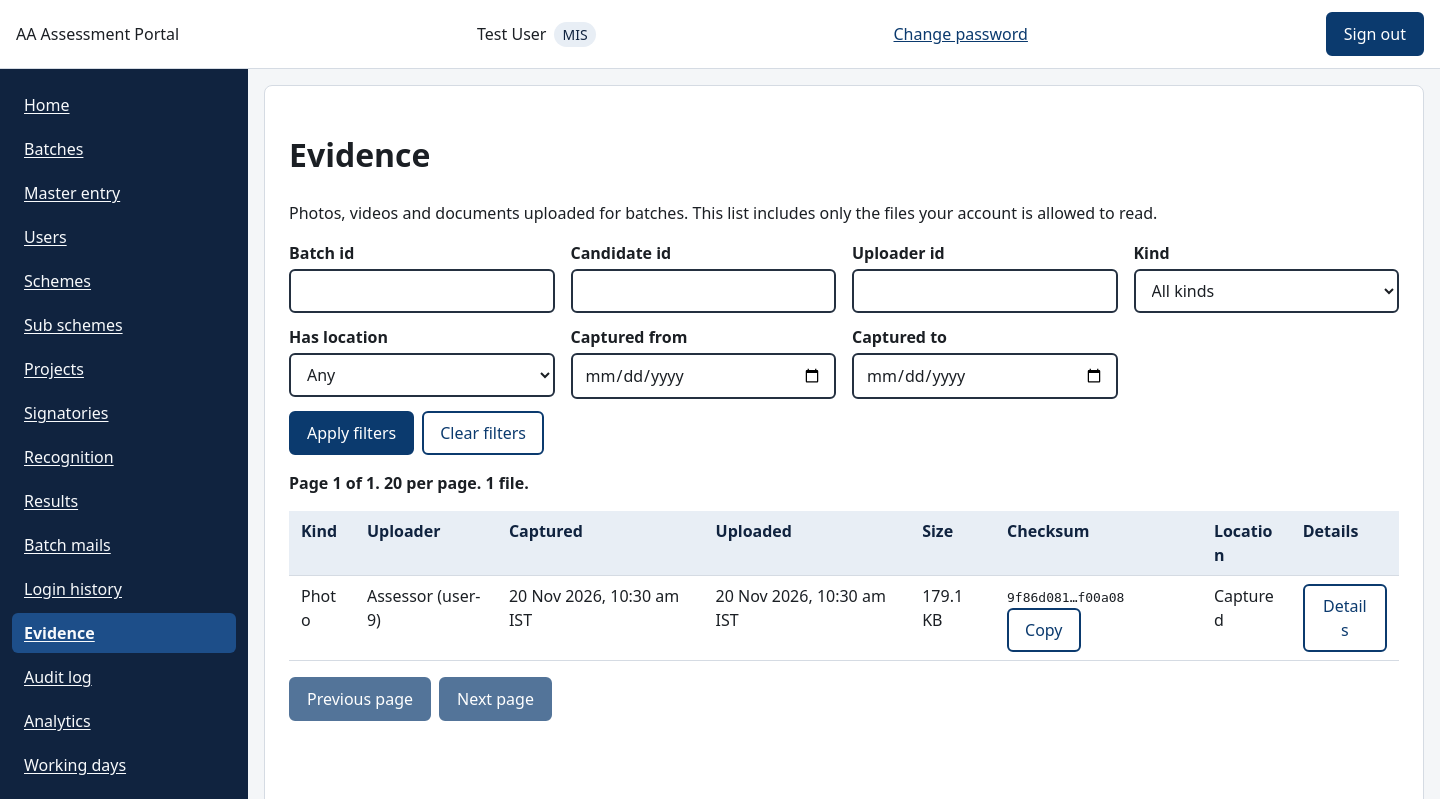
Scenario: refuses a date range that runs backwards without asking the server
expect the table named "Evidence files" is shown: met, box [289,511,1399,661]
Type "2026-11-30" into the date field labelled "Captured from" at [703, 376], box [570,353,836,399]
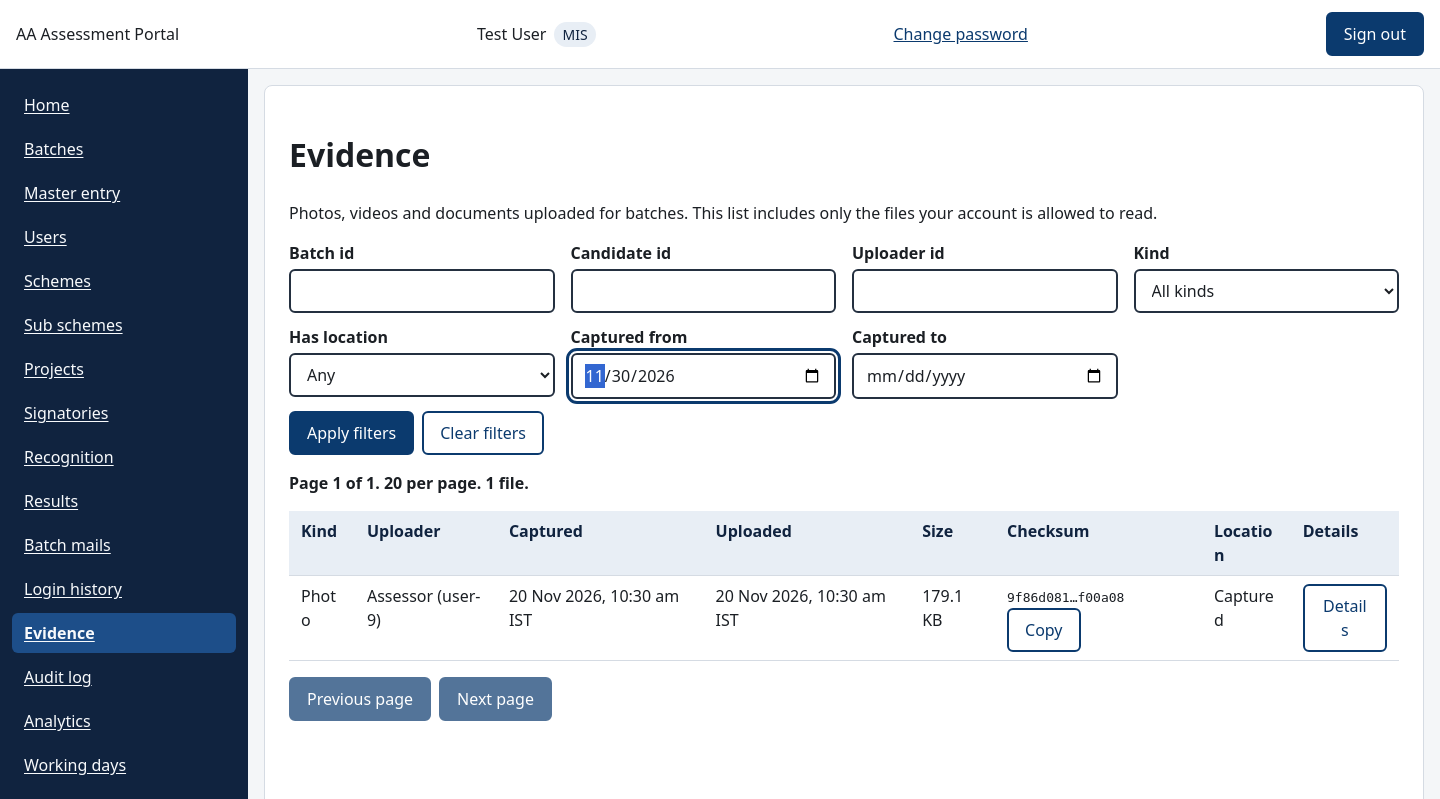
Type "2026-11-01" into the date field labelled "Captured to" at [985, 376], box [852,353,1118,399]
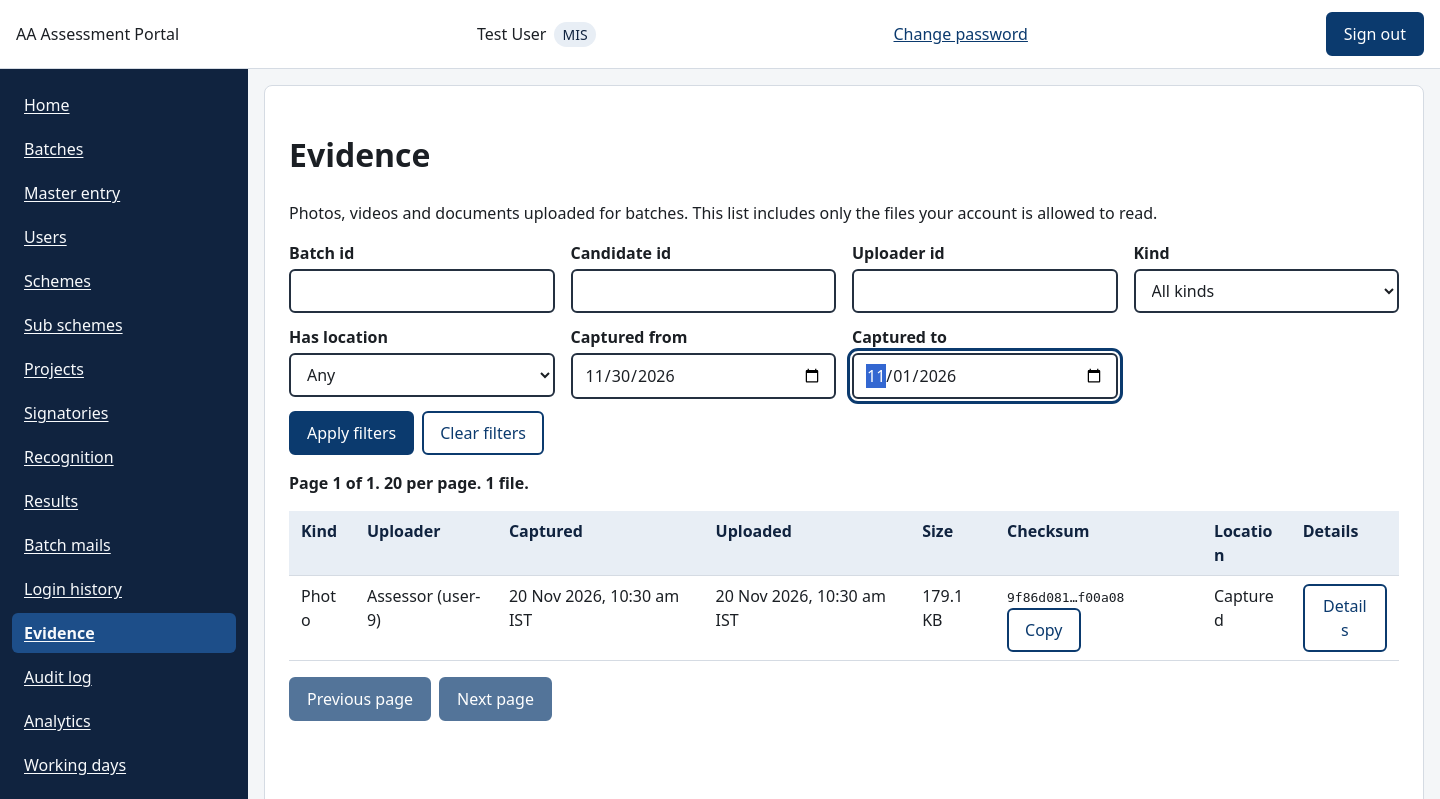
Click the button "Apply filters" at [352, 433], box [289,411,414,455]
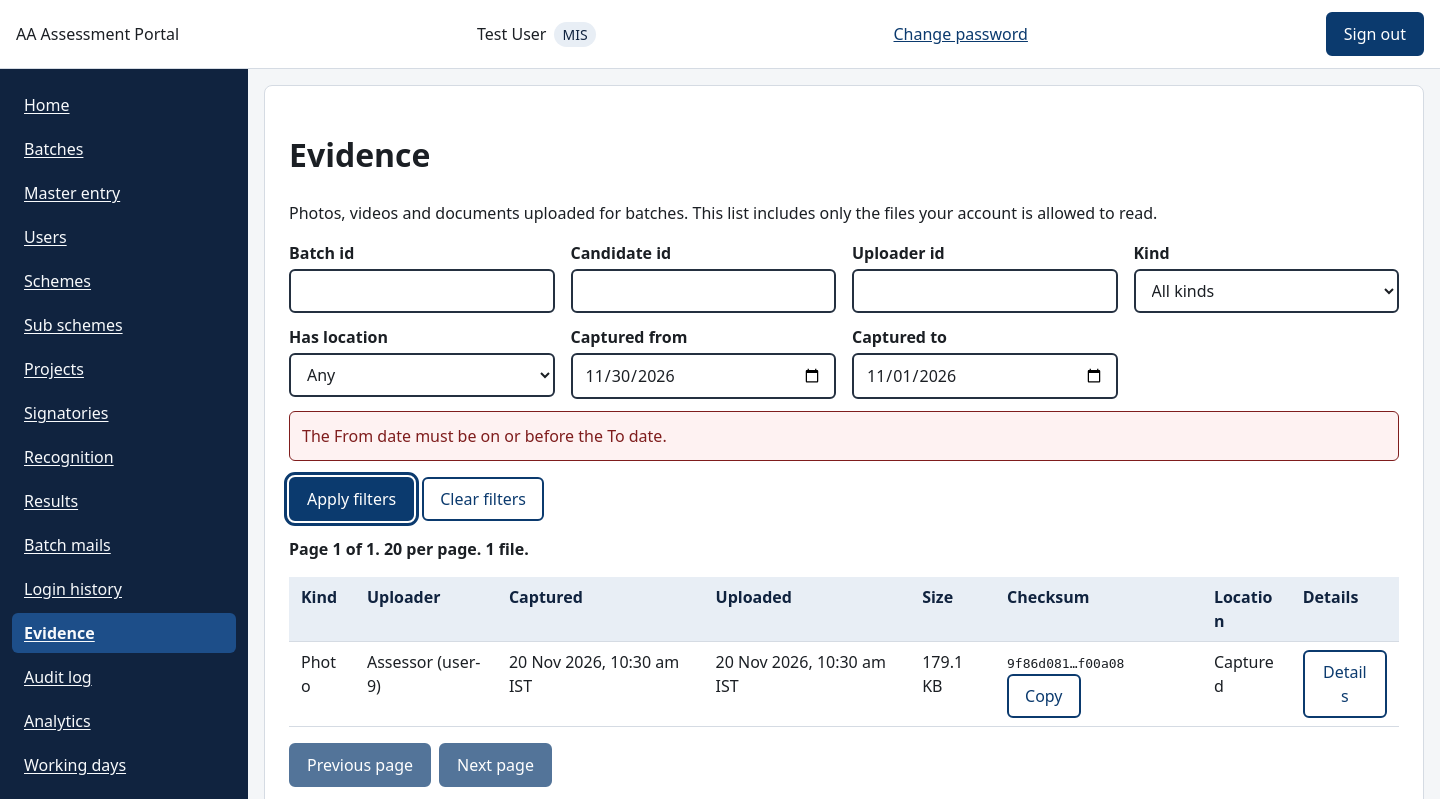
expect the text "The From date must be on or before the To date." is shown: met, box [289,411,1399,461]
